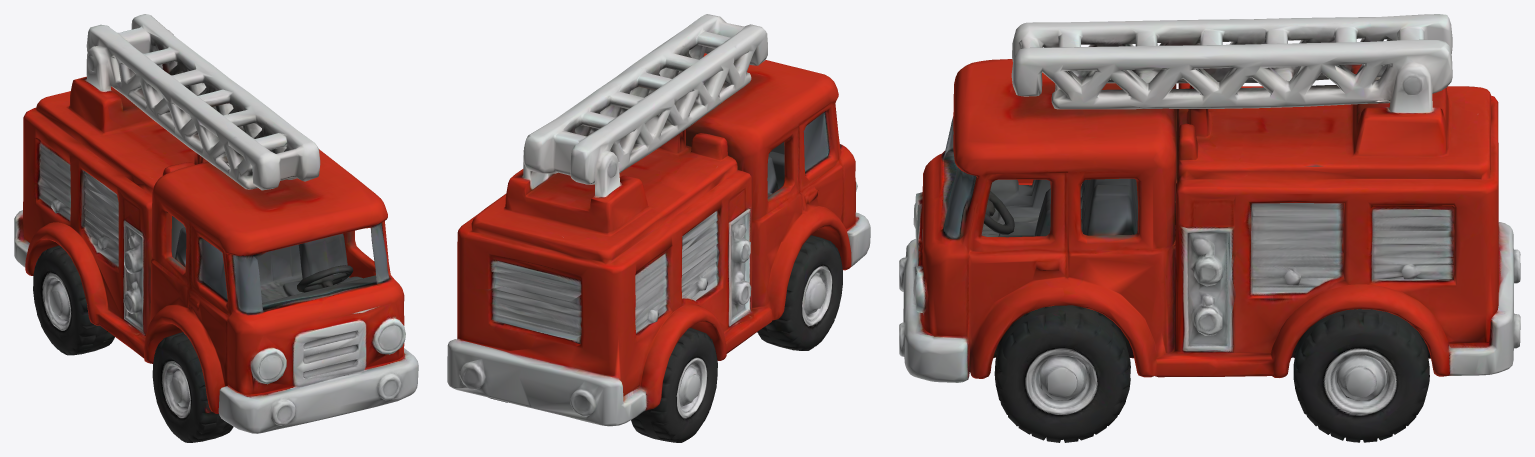
The model's file is firetruck.glb.
3 views of the same model, side by side, from view 1: azimuth 30°, elevation 25°; view 2: azimuth 150°, elevation 25°; view 3: azimuth 270°, elevation 25° (orthographic). The views are drawn at different scales.
Parts seen in each view (by area): view 1: tripo_node_0067438b-697d-4dd7-a7d8-af30d9c3b98e; view 2: tripo_node_0067438b-697d-4dd7-a7d8-af30d9c3b98e; view 3: tripo_node_0067438b-697d-4dd7-a7d8-af30d9c3b98e.
Boxes of the visible parts, x1=… form: tripo_node_0067438b-697d-4dd7-a7d8-af30d9c3b98e: x1=14, y1=14, x2=418, y2=442; tripo_node_0067438b-697d-4dd7-a7d8-af30d9c3b98e: x1=447, y1=14, x2=870, y2=442; tripo_node_0067438b-697d-4dd7-a7d8-af30d9c3b98e: x1=899, y1=14, x2=1520, y2=442.
Bounding box in the file's own units: 0.4574 × 0.635 × 1.
1 material, 1 textured.
